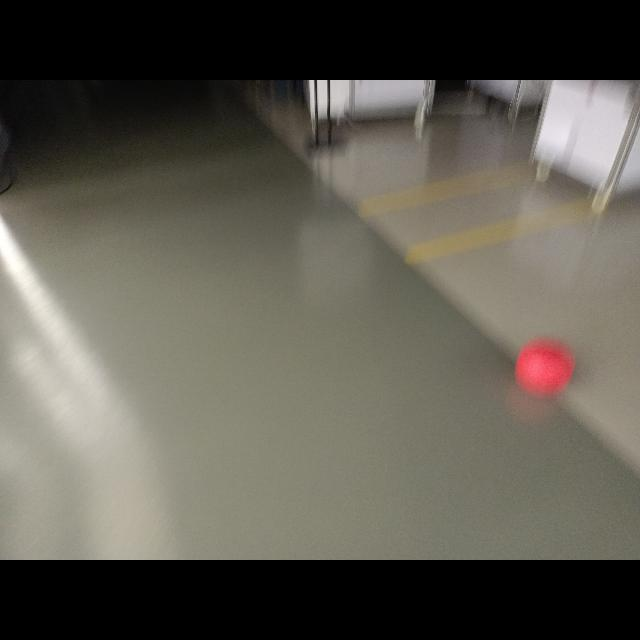R: (515, 338, 573, 396)
